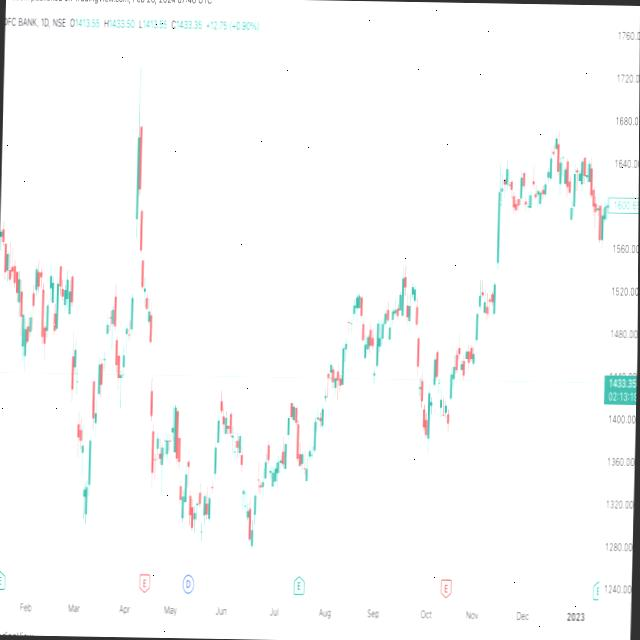Gap Down: (134, 115, 153, 298), (146, 295, 161, 439), (73, 366, 85, 462), (68, 270, 77, 390), (412, 292, 424, 381), (112, 284, 122, 378), (175, 431, 186, 504), (238, 434, 248, 514), (370, 321, 380, 389)
Gap Up: (489, 164, 509, 332), (446, 371, 457, 444), (319, 380, 333, 436), (209, 436, 220, 504), (101, 309, 111, 371)
